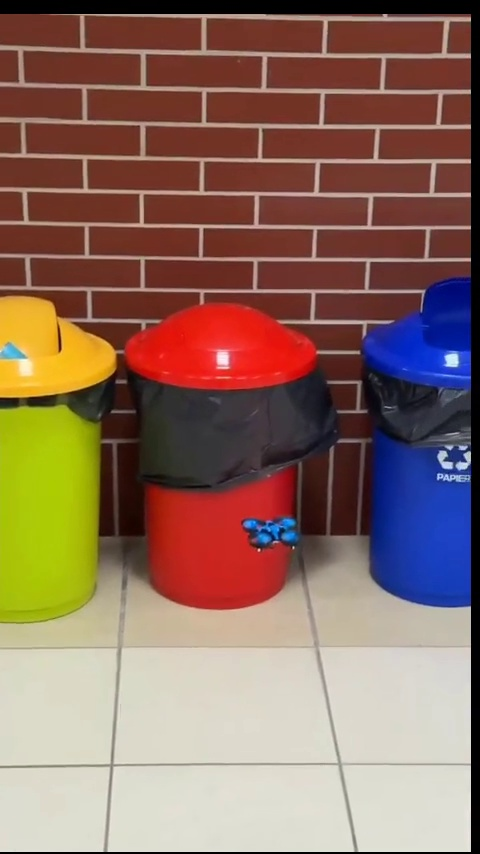drone: (239, 518, 302, 549)
